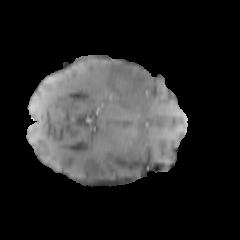glioma: (46, 58, 154, 105)
